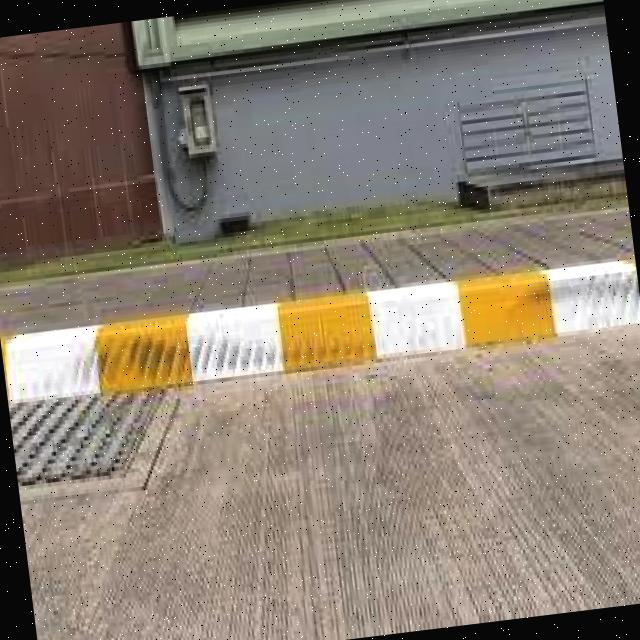curb: (6, 254, 640, 405)
